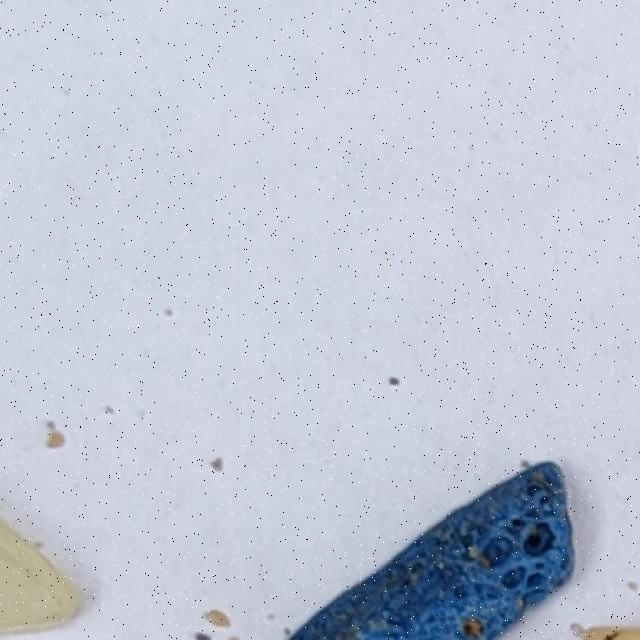fragments: (0, 516, 83, 631), (0, 1, 1, 1)
